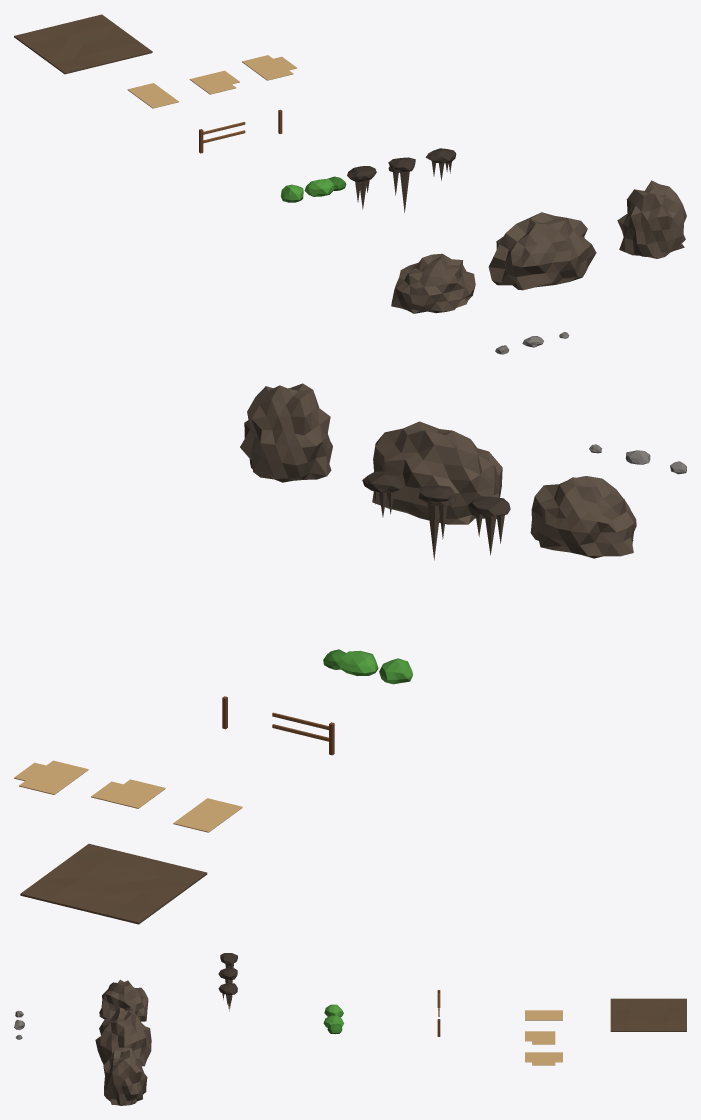
File: kit_lingkungan_v001.glb
3 views of the same model, one above another, from view 1: azimuth 30°, elevation 25°; view 2: azimuth 150°, elevation 25°; view 3: azimuth 270°, elevation 25° (orthographic). The views are drawn at different scales.
Visible parts, largest first — view 1: bongkahan_b, lantai_goa, bongkahan_c, bongkahan_a, jalan_pertigaan, jalan_belok, jalan_lurus, stalaktit_b, stalaktit_a, semak_b, stalaktit_c; view 2: bongkahan_b, lantai_goa, bongkahan_c, bongkahan_a, jalan_pertigaan, jalan_belok, jalan_lurus, stalaktit_b, stalaktit_a, semak_b, stalaktit_c; view 3: lantai_goa, bongkahan_b, bongkahan_c, bongkahan_a, jalan_pertigaan, jalan_lurus, jalan_belok, semak_b, stalaktit_c.
Part boxes in pixels (x1=…): bongkahan_b: x1=488, y1=212, x2=596, y2=290; lantai_goa: x1=14, y1=14, x2=152, y2=74; bongkahan_c: x1=617, y1=180, x2=686, y2=258; bongkahan_a: x1=391, y1=253, x2=475, y2=313; jalan_pertigaan: x1=242, y1=55, x2=296, y2=80; jalan_belok: x1=189, y1=70, x2=239, y2=94; jalan_lurus: x1=127, y1=83, x2=178, y2=108; stalaktit_b: x1=388, y1=157, x2=415, y2=212; stalaktit_a: x1=347, y1=166, x2=376, y2=209; semak_b: x1=304, y1=176, x2=346, y2=196; stalaktit_c: x1=425, y1=148, x2=456, y2=180; bongkahan_b: x1=372, y1=421, x2=502, y2=524; lantai_goa: x1=20, y1=843, x2=207, y2=924; bongkahan_c: x1=240, y1=383, x2=332, y2=482; bongkahan_a: x1=530, y1=476, x2=636, y2=558; jalan_pertigaan: x1=14, y1=760, x2=88, y2=794; jalan_belok: x1=91, y1=779, x2=165, y2=808; jalan_lurus: x1=173, y1=798, x2=242, y2=832; stalaktit_b: x1=418, y1=485, x2=455, y2=560; stalaktit_a: x1=468, y1=496, x2=510, y2=555; semak_b: x1=323, y1=649, x2=378, y2=675; stalaktit_c: x1=362, y1=471, x2=403, y2=517; lantai_goa: x1=610, y1=998, x2=686, y2=1031; bongkahan_b: x1=95, y1=1008, x2=151, y2=1066; bongkahan_c: x1=103, y1=1047, x2=147, y2=1105; bongkahan_a: x1=99, y1=979, x2=148, y2=1021; jalan_pertigaan: x1=525, y1=1052, x2=562, y2=1065; jalan_lurus: x1=525, y1=1010, x2=562, y2=1020; jalan_belok: x1=525, y1=1031, x2=555, y2=1044; semak_b: x1=323, y1=1015, x2=343, y2=1034; stalaktit_c: x1=218, y1=983, x2=237, y2=1007.
Bounding box in the file's own units: 13.39 × 3.5 × 35.28.
